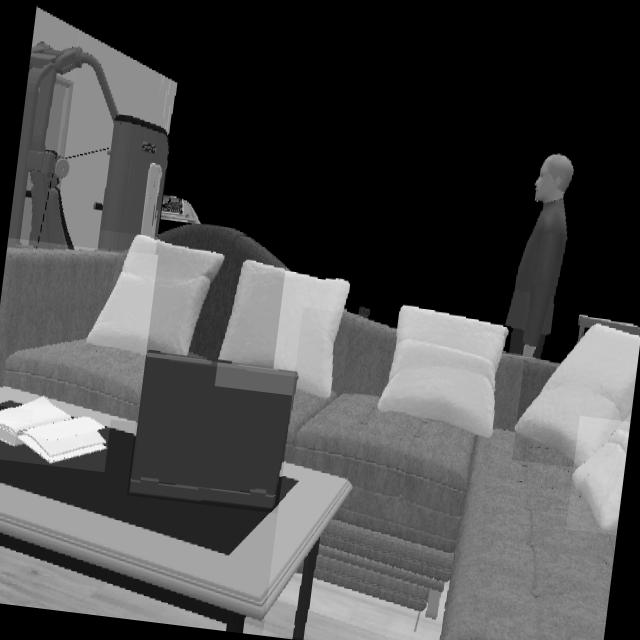book: (0, 396, 106, 465)
laptop: (127, 354, 296, 512)
person: (505, 154, 573, 359)
pillow: (217, 261, 349, 398), (515, 323, 640, 467), (377, 305, 507, 437), (86, 235, 224, 358), (572, 421, 628, 534)
sofa: (284, 312, 616, 640), (0, 247, 143, 421), (157, 225, 285, 361), (505, 153, 574, 357)
table: (0, 398, 352, 640), (0, 385, 34, 414)
